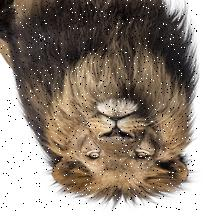Lion: (1, 0, 198, 211)
